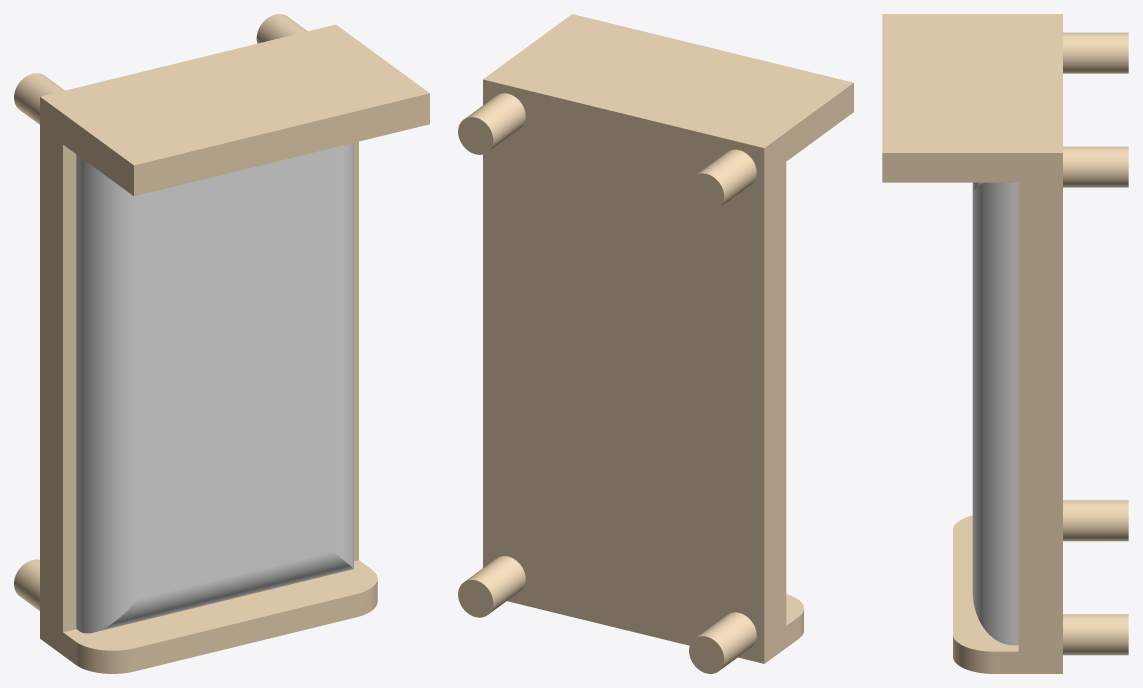
Rendered from bed.gltf.
3 views of the same model, side by side, from view 1: azimuth 30°, elevation 25°; view 2: azimuth 150°, elevation 25°; view 3: azimuth 270°, elevation 25° (orthographic). The views are drawn at different scales.
Parts seen in each view (by area): view 1: Bed; view 2: Bed; view 3: Bed.
Part boxes in pixels (x1=…): Bed: x1=14, y1=14, x2=429, y2=673; Bed: x1=458, y1=14, x2=853, y2=673; Bed: x1=882, y1=14, x2=1128, y2=673.
Size of the model in its own units: 0.0508 by 0.0889 by 0.0381.
